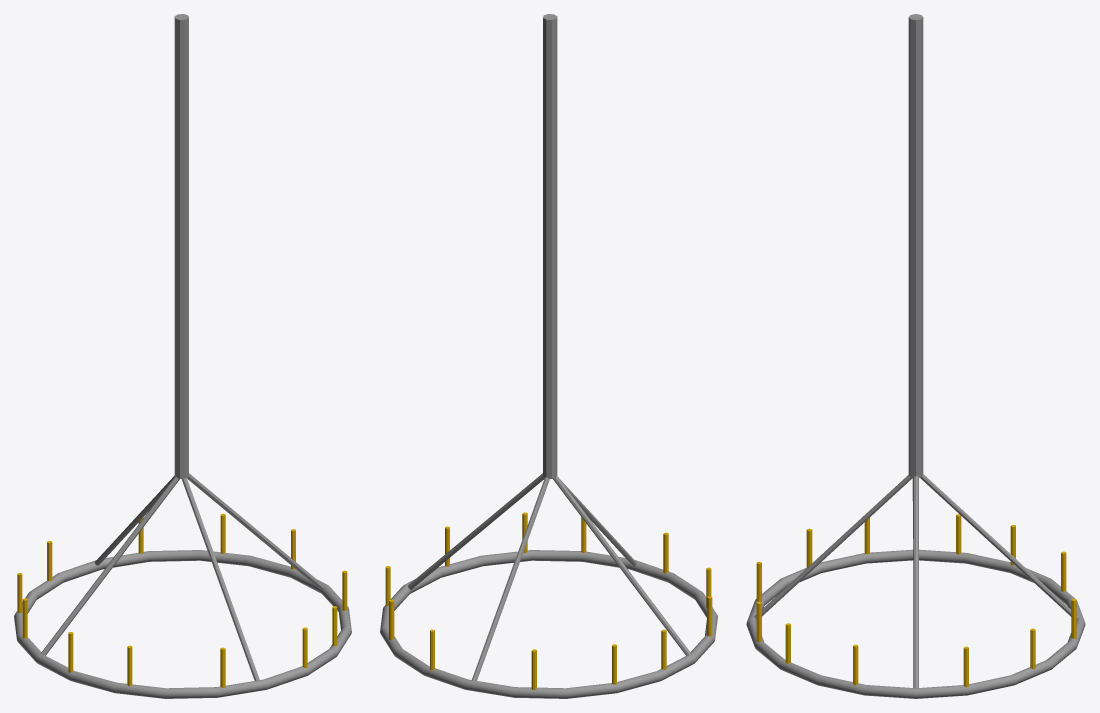
The model's file is SM_Chandelier.fbx.
3 renders of one model, left to right at view 1: azimuth 30°, elevation 25°; view 2: azimuth 150°, elevation 25°; view 3: azimuth 270°, elevation 25°, orthographic.
Parts seen in each view (by area): view 1: pTorus1, pCylinder81, pCylinder83, pCylinder84, pCylinder82, pCylinder85; view 2: pTorus1, pCylinder81, pCylinder83, pCylinder85, pCylinder82, pCylinder84; view 3: pTorus1, pCylinder81, pCylinder82, pCylinder85, pCylinder84.
Part boxes in pixels (box(x1,y1,x2,y2)): pTorus1: box(14, 550, 351, 698); pCylinder81: box(174, 14, 188, 478); pCylinder83: box(40, 476, 179, 655); pCylinder84: box(181, 478, 259, 680); pCylinder82: box(187, 473, 323, 589); pCylinder85: box(95, 475, 174, 565); pTorus1: box(380, 550, 717, 698); pCylinder81: box(543, 14, 557, 478); pCylinder83: box(553, 476, 691, 655); pCylinder85: box(472, 477, 549, 680); pCylinder82: box(407, 473, 544, 589); pCylinder84: box(560, 479, 636, 566); pTorus1: box(746, 549, 1085, 698); pCylinder81: box(908, 14, 923, 477); pCylinder82: box(913, 476, 918, 688); pCylinder85: box(920, 474, 1078, 617); pCylinder84: box(754, 475, 912, 619).
Bounding box in the file's own units: 449 × 893 × 449.
